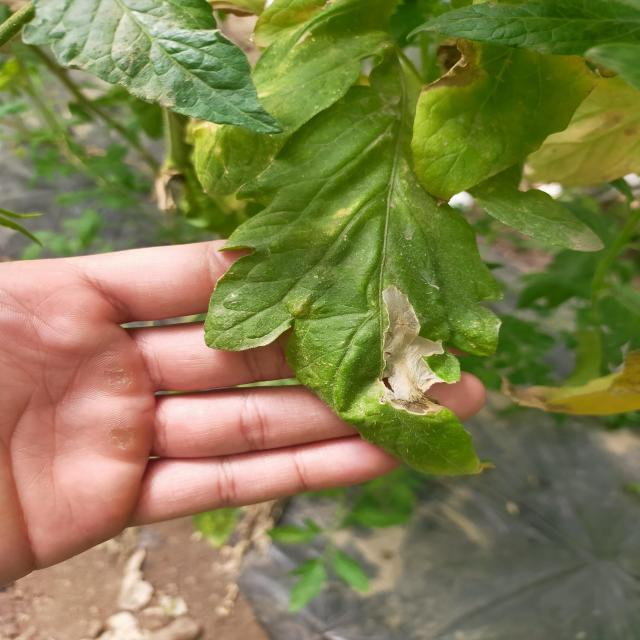Tuta absoluta: (379, 285, 446, 415)
